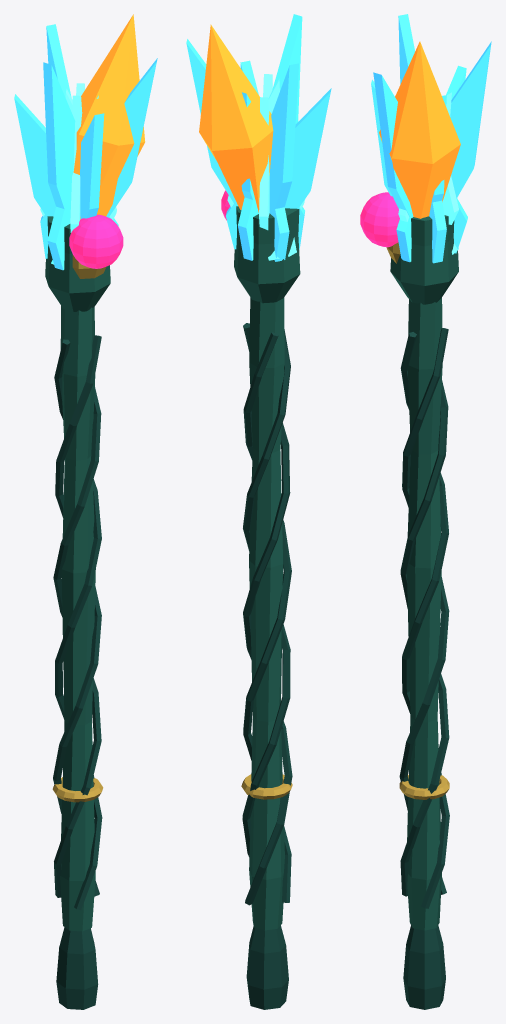
File: staff_tealoracle.glb
The picture shows the model from 3 angles, left to right: view 1: azimuth 30°, elevation 25°; view 2: azimuth 210°, elevation 25°; view 3: azimuth 270°, elevation 25°; orthographic projection.
Parts seen in each view (by area): view 1: To_Shaft, To_Orange, To_Vine1, To_Leaf0, To_Vine2, To_Vine0, To_Butt, To_Neck, To_Leaf2, To_Magenta, To_Leaf5, To_Leaf1 (+6 smaller); view 2: To_Shaft, To_Orange, To_Neck, To_Vine0, To_Vine2, To_Vine1, To_Butt, To_Leaf4, To_Leaf5, To_Leaf0, To_Leaf2, To_Leaf1 (+2 smaller); view 3: To_Shaft, To_Orange, To_Neck, To_Vine2, To_Vine0, To_Vine1, To_Butt, To_Leaf4, To_Leaf2, To_Magenta, To_Leaf0, To_Leaf5 (+3 smaller).
Part boxes in pixels (bbox=[...]): To_Shaft: bbox=[60, 306, 95, 931]; To_Orange: bbox=[73, 14, 145, 219]; To_Vine1: bbox=[53, 387, 101, 897]; To_Leaf0: bbox=[43, 62, 75, 223]; To_Vine2: bbox=[54, 339, 102, 910]; To_Vine0: bbox=[53, 335, 101, 896]; To_Butt: bbox=[56, 927, 98, 1009]; To_Neck: bbox=[45, 216, 110, 311]; To_Leaf2: bbox=[40, 58, 157, 258]; To_Magenta: bbox=[69, 214, 123, 268]; To_Leaf5: bbox=[14, 94, 118, 226]; To_Leaf1: bbox=[80, 113, 104, 218]; To_Shaft: bbox=[249, 297, 284, 930]; To_Orange: bbox=[199, 24, 273, 212]; To_Neck: bbox=[234, 206, 300, 303]; To_Vine0: bbox=[243, 323, 292, 905]; To_Vine2: bbox=[242, 329, 290, 856]; To_Vine1: bbox=[243, 332, 291, 902]; To_Butt: bbox=[246, 925, 288, 1009]; To_Leaf4: bbox=[269, 63, 298, 208]; To_Leaf5: bbox=[226, 88, 331, 249]; To_Leaf0: bbox=[238, 14, 302, 260]; To_Leaf2: bbox=[186, 39, 304, 249]; To_Leaf1: bbox=[240, 60, 289, 261]; To_Shaft: bbox=[407, 297, 442, 930]; To_Orange: bbox=[379, 41, 460, 218]; To_Neck: bbox=[390, 215, 458, 304]; To_Vine2: bbox=[400, 380, 449, 896]; To_Vine0: bbox=[400, 332, 449, 908]; To_Vine1: bbox=[399, 328, 449, 894]; To_Butt: bbox=[403, 925, 445, 1009]; To_Leaf4: bbox=[450, 41, 491, 198]; To_Leaf2: bbox=[373, 72, 413, 218]; To_Magenta: bbox=[360, 192, 399, 247]; To_Leaf0: bbox=[398, 14, 446, 263]; To_Leaf5: bbox=[396, 65, 466, 262].
Size of the model in its own units: 0.2587 by 2.28 by 0.2756.
